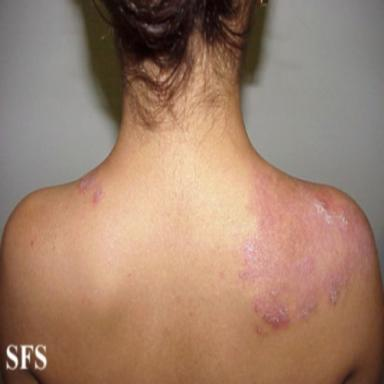Hailey-Hailey-Disease: (238, 164, 378, 338), (77, 171, 104, 205)
